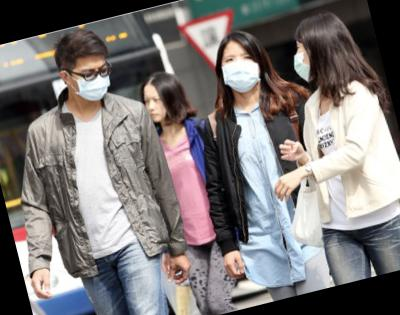with_mask: (65, 58, 116, 107), (217, 46, 266, 97), (287, 38, 317, 84)
without_mask: (140, 89, 169, 125)
